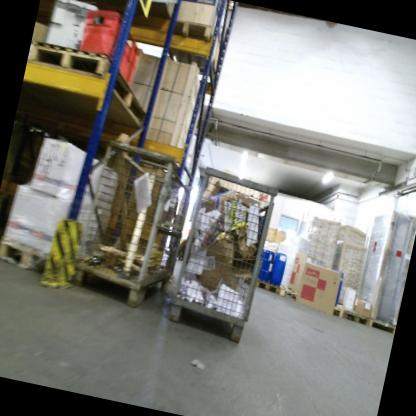pallet: (18, 38, 158, 130), (157, 13, 230, 91), (0, 235, 56, 278), (339, 303, 374, 327), (251, 274, 286, 297), (365, 313, 396, 337), (273, 280, 298, 300), (329, 301, 344, 317)
stillage: (64, 128, 201, 319), (162, 160, 284, 347)
